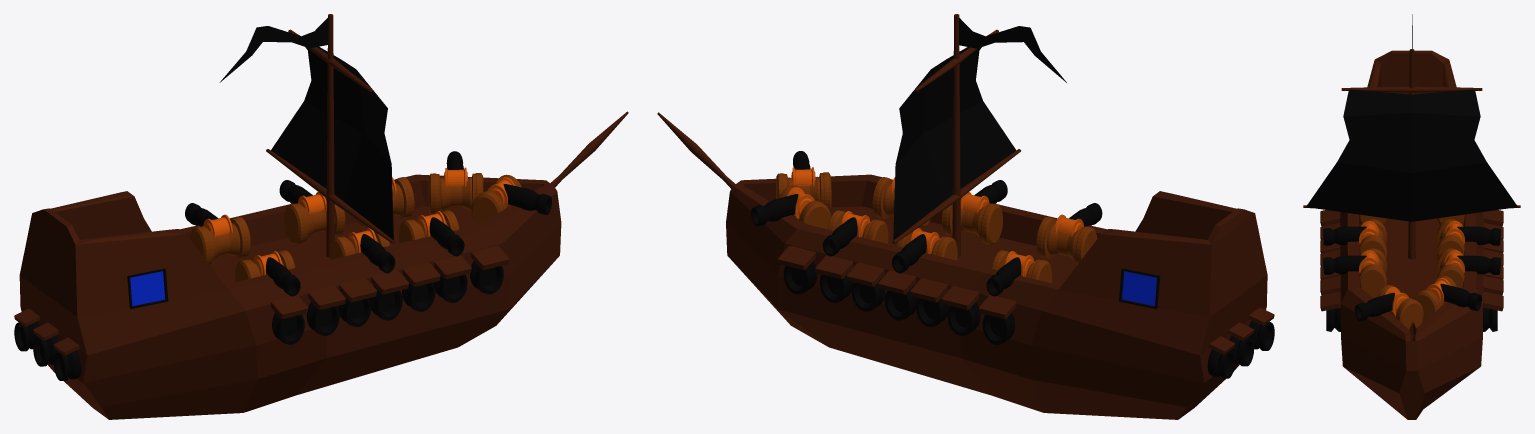
The model's file is AttackShip.obj.
3 renders of one model, left to right at view 1: azimuth 30°, elevation 25°; view 2: azimuth 150°, elevation 25°; view 3: azimuth 270°, elevation 25°, orthographic. The views are drawn at different scales.
Visible parts, largest first — view 1: corpus, Plane, ForGun.008, Balka1.001, ForGun.010, ForGun.018, Plane.001, okno, Balka2.002, Cylinder.027, ForGun.016, ForGun.014 (+23 smaller); view 2: corpus, Plane, ForGun, Balka1.001, ForGun.002, Plane.001, okno.001, Balka2.002, ForGun.016, Cylinder.028, Cylinder.021, ForGun.006 (+23 smaller); view 3: corpus, Plane, ForGun.006, ForGun.016, Cylinder.028, Cylinder.027, Balka2.001, Cylinder.026, Cylinder.010, Cylinder.008, Cylinder.024, ForGun.018 (+18 smaller).
Part boxes in pixels (x1=…): corpus: x1=19, y1=174, x2=561, y2=419; Plane: x1=271, y1=35, x2=393, y2=240; ForGun.008: x1=190, y1=217, x2=250, y2=264; Balka1.001: x1=326, y1=14, x2=334, y2=257; ForGun.010: x1=284, y1=197, x2=345, y2=244; ForGun.018: x1=428, y1=173, x2=483, y2=214; Plane.001: x1=219, y1=17, x2=328, y2=82; okno: x1=127, y1=268, x2=168, y2=308; Balka2.002: x1=266, y1=149, x2=394, y2=243; Cylinder.027: x1=503, y1=184, x2=551, y2=214; ForGun.016: x1=471, y1=174, x2=521, y2=225; ForGun.014: x1=356, y1=177, x2=414, y2=228; corpus: x1=726, y1=174, x2=1267, y2=419; Plane: x1=893, y1=35, x2=1016, y2=240; ForGun: x1=1036, y1=217, x2=1097, y2=264; Balka1.001: x1=952, y1=14, x2=960, y2=257; ForGun.002: x1=942, y1=197, x2=1002, y2=244; Plane.001: x1=959, y1=17, x2=1066, y2=82; okno.001: x1=1119, y1=268, x2=1160, y2=308; Balka2.002: x1=892, y1=149, x2=1020, y2=243; ForGun.016: x1=776, y1=172, x2=831, y2=211; Cylinder.028: x1=751, y1=194, x2=798, y2=226; Cylinder.021: x1=947, y1=302, x2=980, y2=335; ForGun.006: x1=872, y1=177, x2=930, y2=228; corpus: x1=1339, y1=50, x2=1484, y2=419; Plane: x1=1306, y1=89, x2=1517, y2=221; ForGun.006: x1=1359, y1=248, x2=1386, y2=298; ForGun.016: x1=1377, y1=285, x2=1423, y2=329; Cylinder.028: x1=1440, y1=283, x2=1481, y2=310; Cylinder.027: x1=1354, y1=292, x2=1394, y2=321; Balka2.001: x1=1341, y1=86, x2=1482, y2=92; Cylinder.026: x1=1457, y1=255, x2=1500, y2=274; Cylinder.010: x1=1323, y1=255, x2=1366, y2=274; Cylinder.008: x1=1323, y1=226, x2=1366, y2=245; Cylinder.024: x1=1457, y1=226, x2=1500, y2=245; ForGun.018: x1=1414, y1=276, x2=1456, y2=322.
Bounding box in the file's own units: 11.83 × 7.13 × 4.36.
